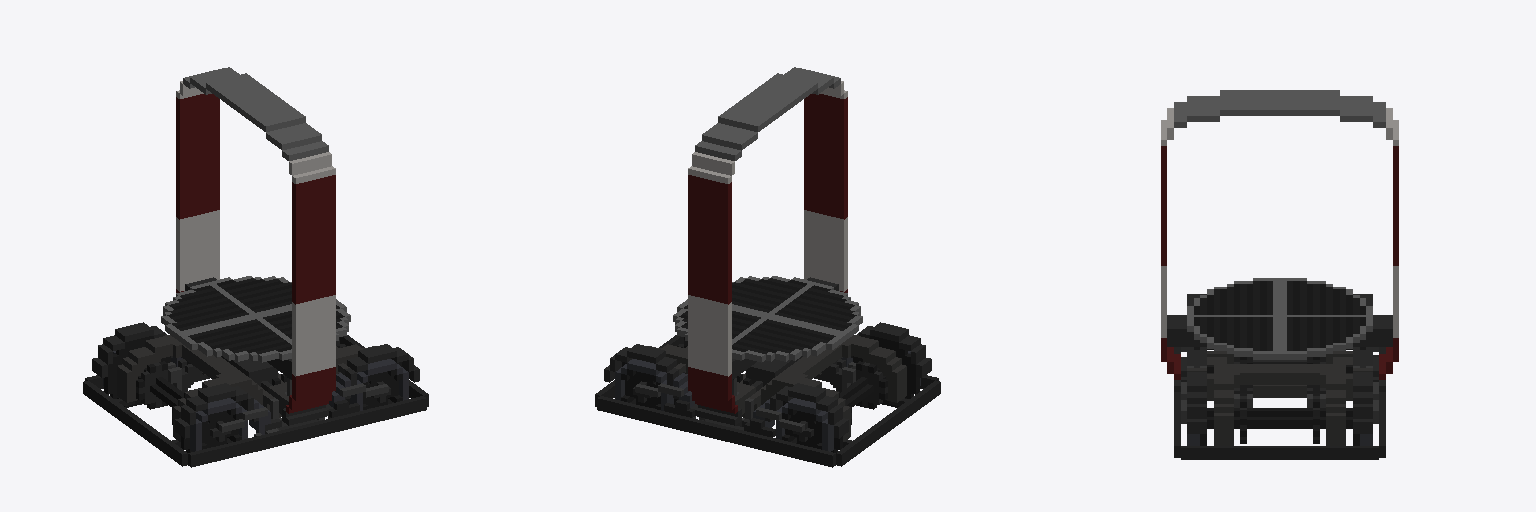
3 views of the same model, side by side, from view 1: azimuth 30°, elevation 25°; view 2: azimuth 150°, elevation 25°; view 3: azimuth 270°, elevation 25° (orthographic).
Parts seen in each view (by area): view 1: FRAME, FRAME_WHEEL_1, FRAME_WHEEL_2; view 2: FRAME, FRAME_WHEEL_1, FRAME_WHEEL_2; view 3: FRAME, FRAME_WHEEL_2.
Part boxes in pixels (x1,y1,x2,y2): FRAME: (83, 67, 428, 467); FRAME_WHEEL_1: (103, 336, 247, 452); FRAME_WHEEL_2: (336, 337, 408, 410); FRAME: (595, 67, 940, 467); FRAME_WHEEL_1: (776, 336, 920, 452); FRAME_WHEEL_2: (615, 337, 687, 410); FRAME: (1161, 90, 1398, 459); FRAME_WHEEL_2: (1187, 393, 1372, 445).
Bounding box in the file's own units: 2.69 × 3.25 × 2.25.
Materials: 1 (1 with a texture image).